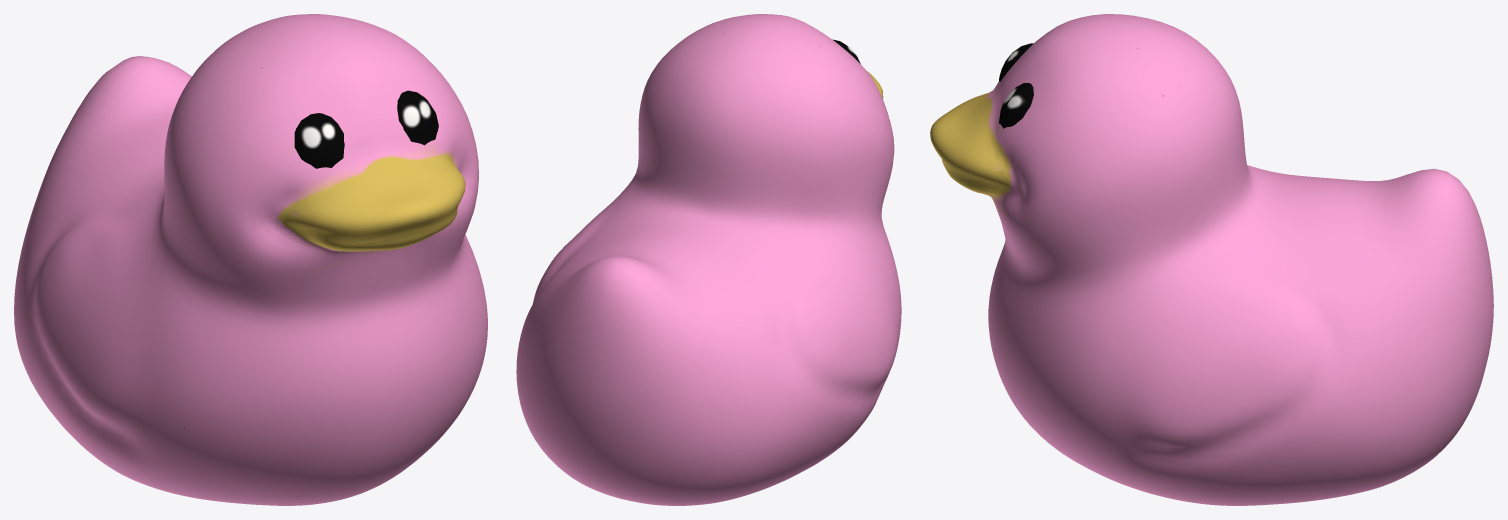
File: duck.fbx
The picture shows the model from 3 angles, left to right: view 1: azimuth 30°, elevation 25°; view 2: azimuth 150°, elevation 25°; view 3: azimuth 270°, elevation 25°; orthographic projection. The views are drawn at different scales.
Parts seen in each view (by area): view 1: rubber_duck; view 2: rubber_duck; view 3: rubber_duck.
Boxes of the visible parts, x1,y1,x2,y2 form: rubber_duck: (14,14,487,505); rubber_duck: (516,14,901,505); rubber_duck: (930,14,1493,505).
Bounding box in the file's own units: 105 × 124 × 145.
Materials: 1 (1 with a texture image).
